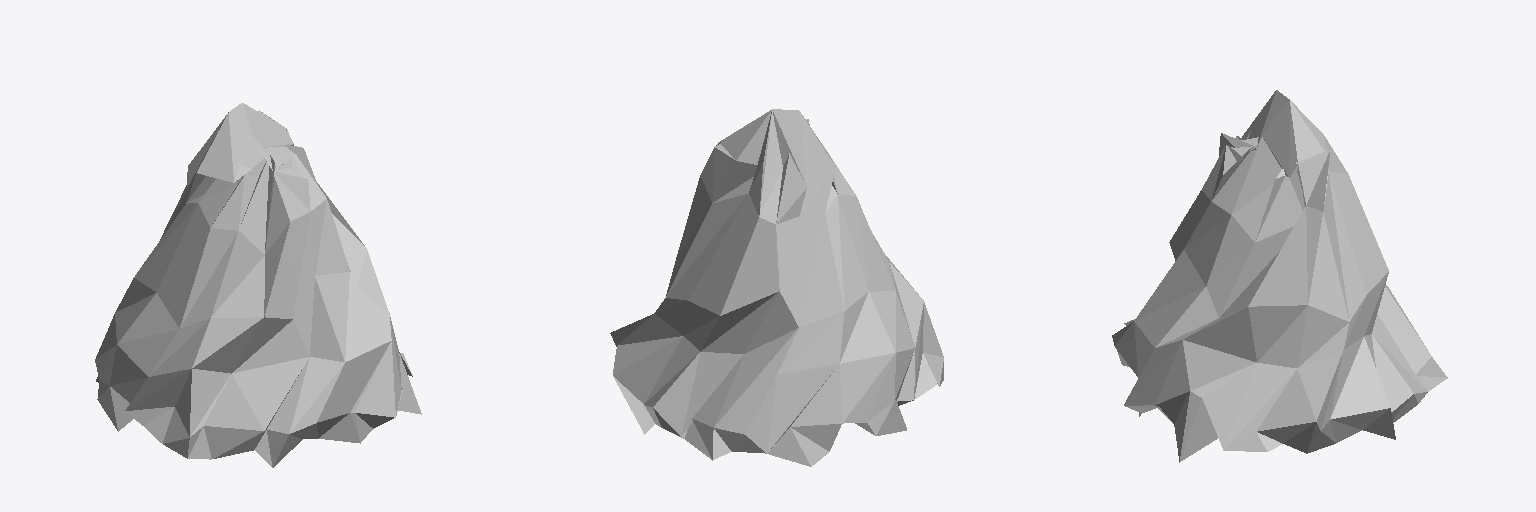
The model's file is lemon sauced.obj.
The picture shows the model from 3 angles: view 1: azimuth 30°, elevation 25°; view 2: azimuth 150°, elevation 25°; view 3: azimuth 270°, elevation 25°; orthographic projection.
Parts seen in each view (by area): view 1: lemon_sauced; view 2: lemon_sauced; view 3: lemon_sauced.
Part boxes in pixels (x1,y1,x2,y2): lemon_sauced: (95,103,421,467); lemon_sauced: (610,109,943,466); lemon_sauced: (1112,90,1447,462).
Size of the model in its own units: 0.0925 by 0.0953 by 0.0953.